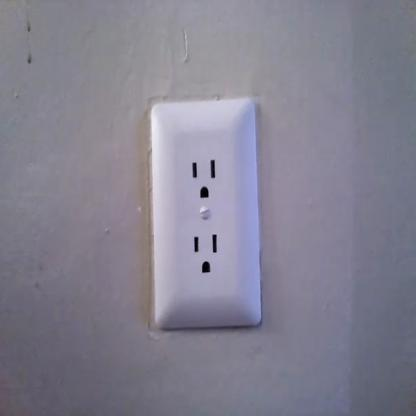OUTLET: (152, 100, 262, 329)
